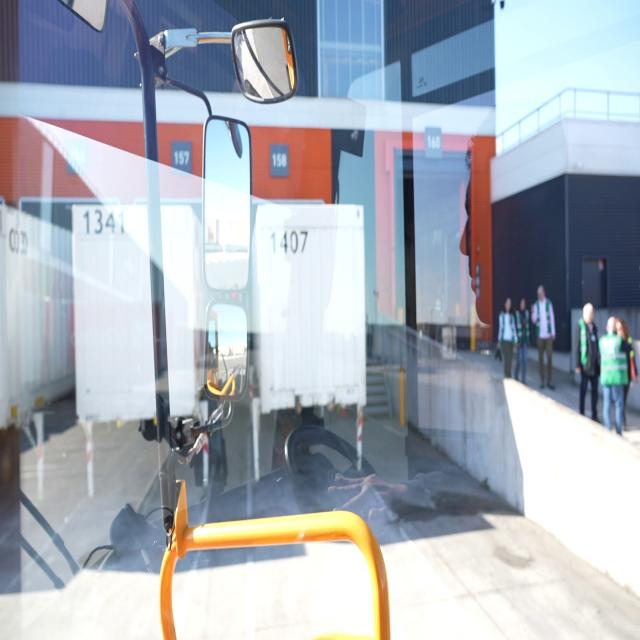Code: (80, 202, 127, 241), (265, 224, 313, 256)
